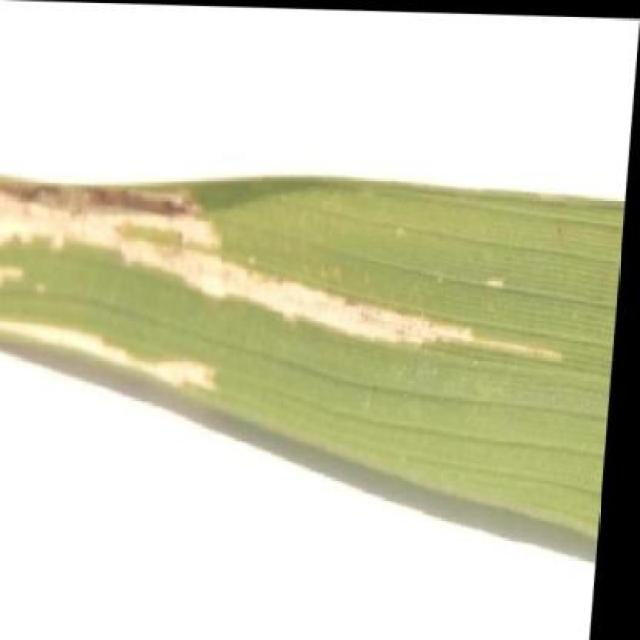Brown_Spot: (0, 136, 591, 438)
